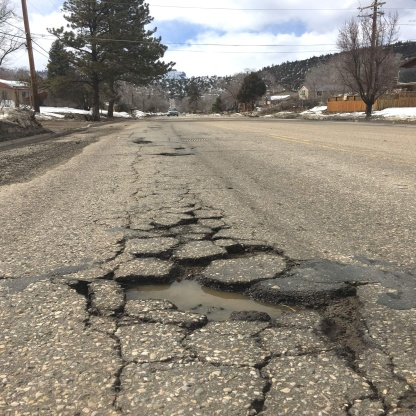pothole: (61, 187, 397, 376)
